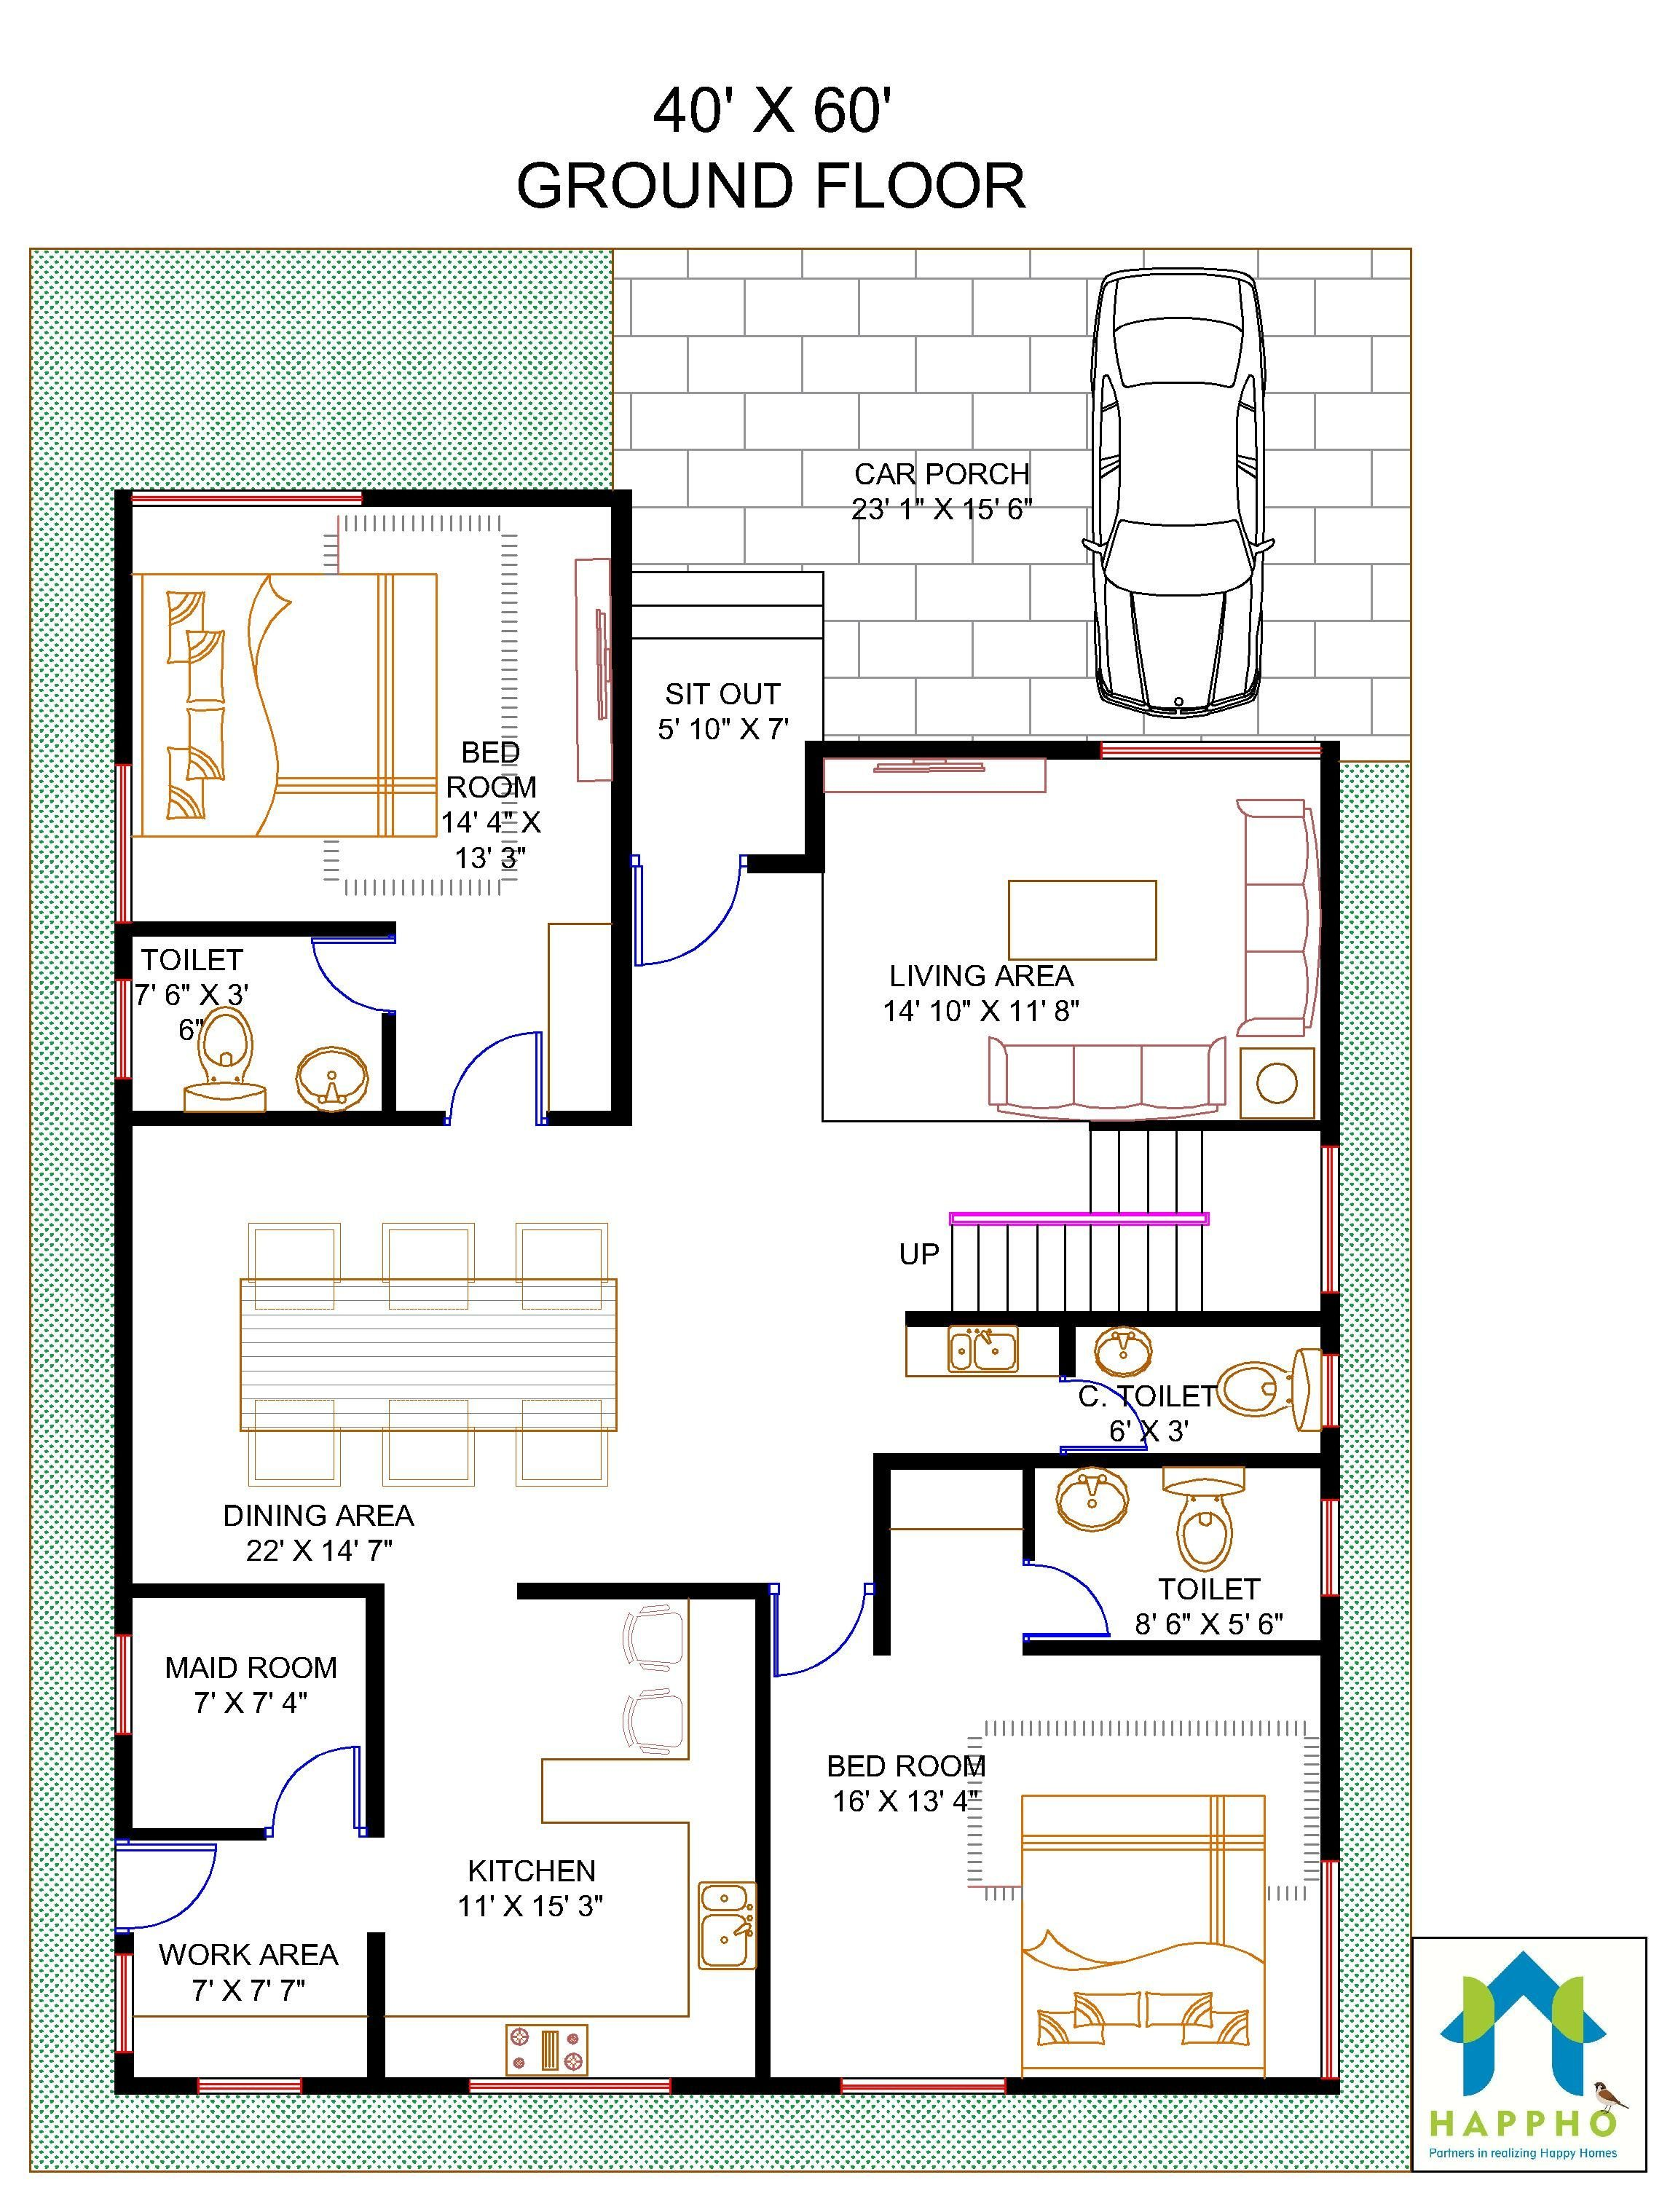window: (1317, 1858, 1343, 2082), (127, 486, 367, 511), (1098, 739, 1325, 763), (465, 2076, 673, 2099), (1318, 1144, 1343, 1297), (111, 763, 134, 924), (839, 2075, 1006, 2096), (194, 2076, 305, 2099), (113, 1949, 136, 2053), (1320, 1495, 1341, 1600), (113, 976, 134, 1080), (113, 1632, 134, 1736), (1320, 1352, 1343, 1428)
